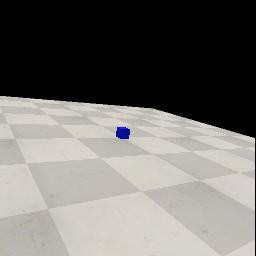box: (116, 127, 130, 139)
